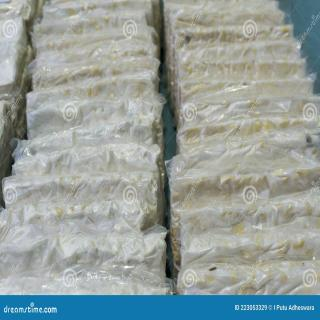Tempe: (1, 1, 172, 296), (166, 1, 320, 296)
